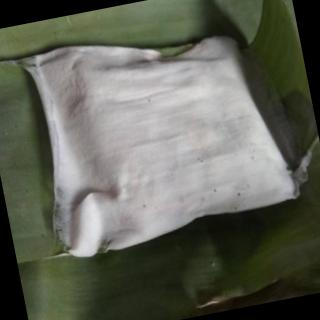Tempe: (15, 7, 305, 265)
